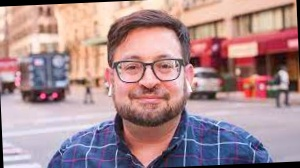earphone: (183, 64, 197, 96), (105, 66, 115, 97)
